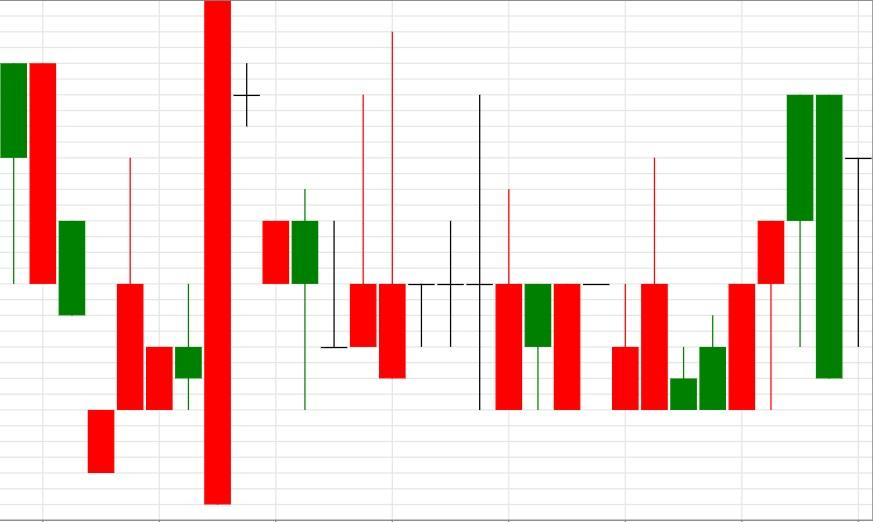bullish_engulfing_rise: (582, 156, 756, 411)
